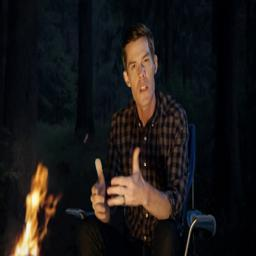fire: (12, 163, 59, 256)
